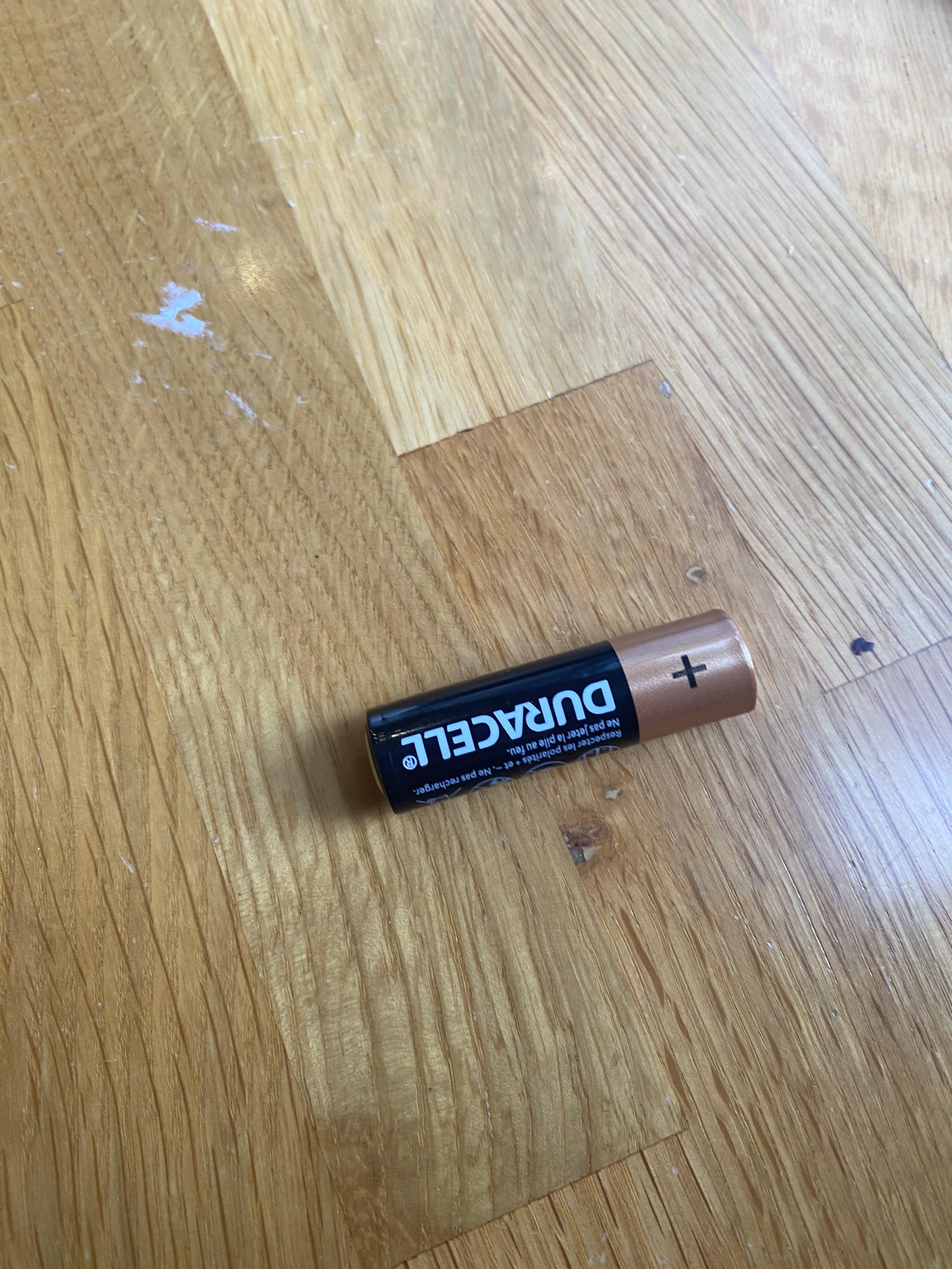AA: (364, 606, 758, 815)
